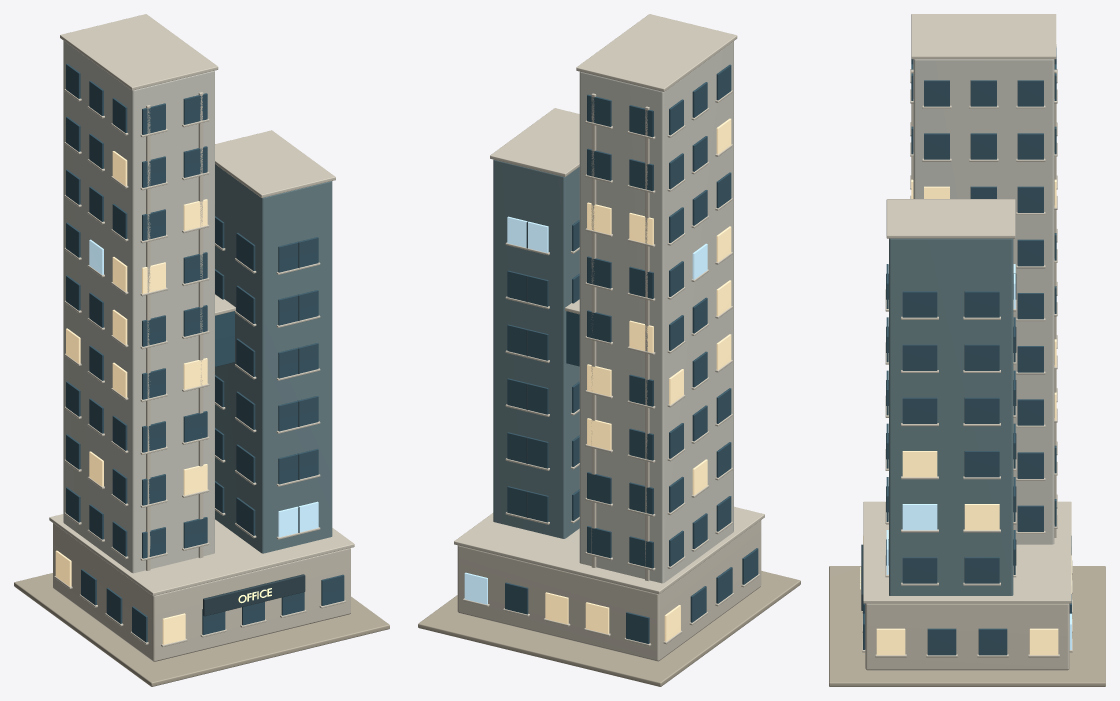
Rendered from office.glb.
3 views of the same model, side by side, from view 1: azimuth 30°, elevation 25°; view 2: azimuth 150°, elevation 25°; view 3: azimuth 270°, elevation 25° (orthographic).
Visible parts, largest first — view 1: office_Building_Volume.001, office_Building_Volume.002, office_Building_Volume, office_Site_Paving, office_Roof_Coping.001, office_Roof_Coping, office_Roof_Coping.002, office_Sign_Backplate, office_Vertical_Fin, office_Vertical_Fin.001, office_Window_Recess.127, office_Window_Recess.133 (+25 smaller); view 2: office_Building_Volume.001, office_Building_Volume.002, office_Building_Volume, office_Site_Paving, office_Roof_Coping.001, office_Roof_Coping, office_Roof_Coping.002, office_Vertical_Fin, office_Vertical_Fin.001, office_Window_Recess.108, office_Window_Recess.120, office_Window_Recess.126 (+27 smaller); view 3: office_Building_Volume.002, office_Building_Volume.001, office_Site_Paving, office_Building_Volume, office_Roof_Coping, office_Roof_Coping.001, office_Roof_Coping.002, office_Vertical_Fin.001, office_Window_Recess.111, office_Window_Recess.113, office_Window_Recess.141, office_Window_Recess.143 (+25 smaller).
Boxes of the visible parts, box(x1,y1,x2,y2) form: office_Building_Volume.001: box(63, 41, 214, 573); office_Building_Volume.002: box(215, 164, 332, 553); office_Building_Volume: box(53, 523, 350, 661); office_Site_Paving: box(14, 573, 389, 686); office_Roof_Coping.001: box(60, 14, 218, 90); office_Roof_Coping: box(49, 514, 354, 595); office_Roof_Coping.002: box(215, 130, 335, 197); office_Sign_Backplate: box(203, 574, 305, 616); office_Vertical_Fin: box(146, 105, 150, 570); office_Vertical_Fin.001: box(198, 92, 203, 558); office_Window_Recess.127: box(278, 343, 318, 378); office_Window_Recess.133: box(278, 290, 318, 325); office_Building_Volume.001: box(579, 41, 733, 583); office_Building_Volume.002: box(493, 160, 579, 538); office_Building_Volume: box(457, 520, 761, 661); office_Site_Paving: box(418, 571, 800, 686); office_Roof_Coping.001: box(576, 14, 737, 91); office_Roof_Coping: box(454, 506, 764, 594); office_Roof_Coping.002: box(490, 108, 579, 176); office_Vertical_Fin: box(645, 106, 649, 581); office_Vertical_Fin.001: box(591, 93, 596, 567); office_Window_Recess.108: box(507, 486, 548, 522); office_Window_Recess.120: box(507, 378, 548, 414); office_Window_Recess.126: box(507, 324, 548, 360); office_Building_Volume.002: box(889, 238, 1013, 595); office_Building_Volume.001: box(913, 59, 1054, 544); office_Site_Paving: box(829, 566, 1105, 686); office_Building_Volume: box(865, 603, 1069, 670); office_Roof_Coping: box(863, 501, 1071, 603); office_Roof_Coping.001: box(911, 14, 1056, 59); office_Roof_Coping.002: box(886, 199, 1015, 238); office_Vertical_Fin.001: box(911, 69, 1056, 537); office_Window_Recess.111: box(964, 557, 999, 583); office_Window_Recess.113: box(902, 557, 937, 583); office_Window_Recess.141: box(964, 291, 999, 317); office_Window_Recess.143: box(902, 291, 937, 317).
Size of the model in its own units: 11.8 by 26.66 by 11.8.
